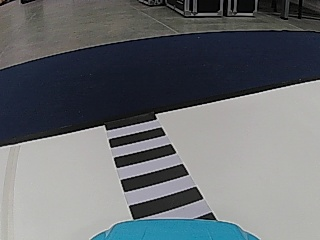CrossWalk: (106, 120, 212, 213)
